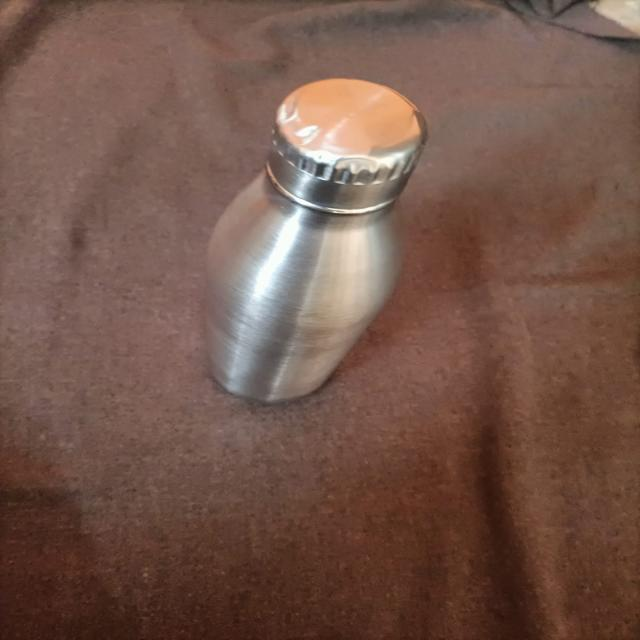bottle: (146, 28, 459, 463)
